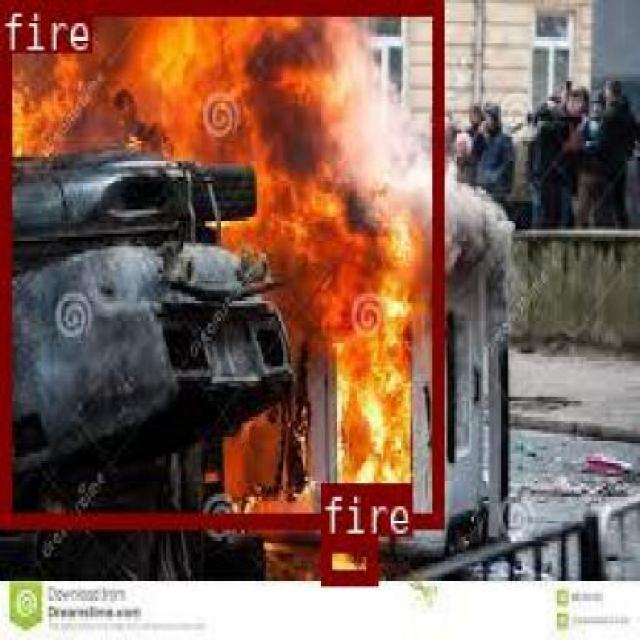fire: (0, 0, 440, 523), (318, 534, 374, 582)
